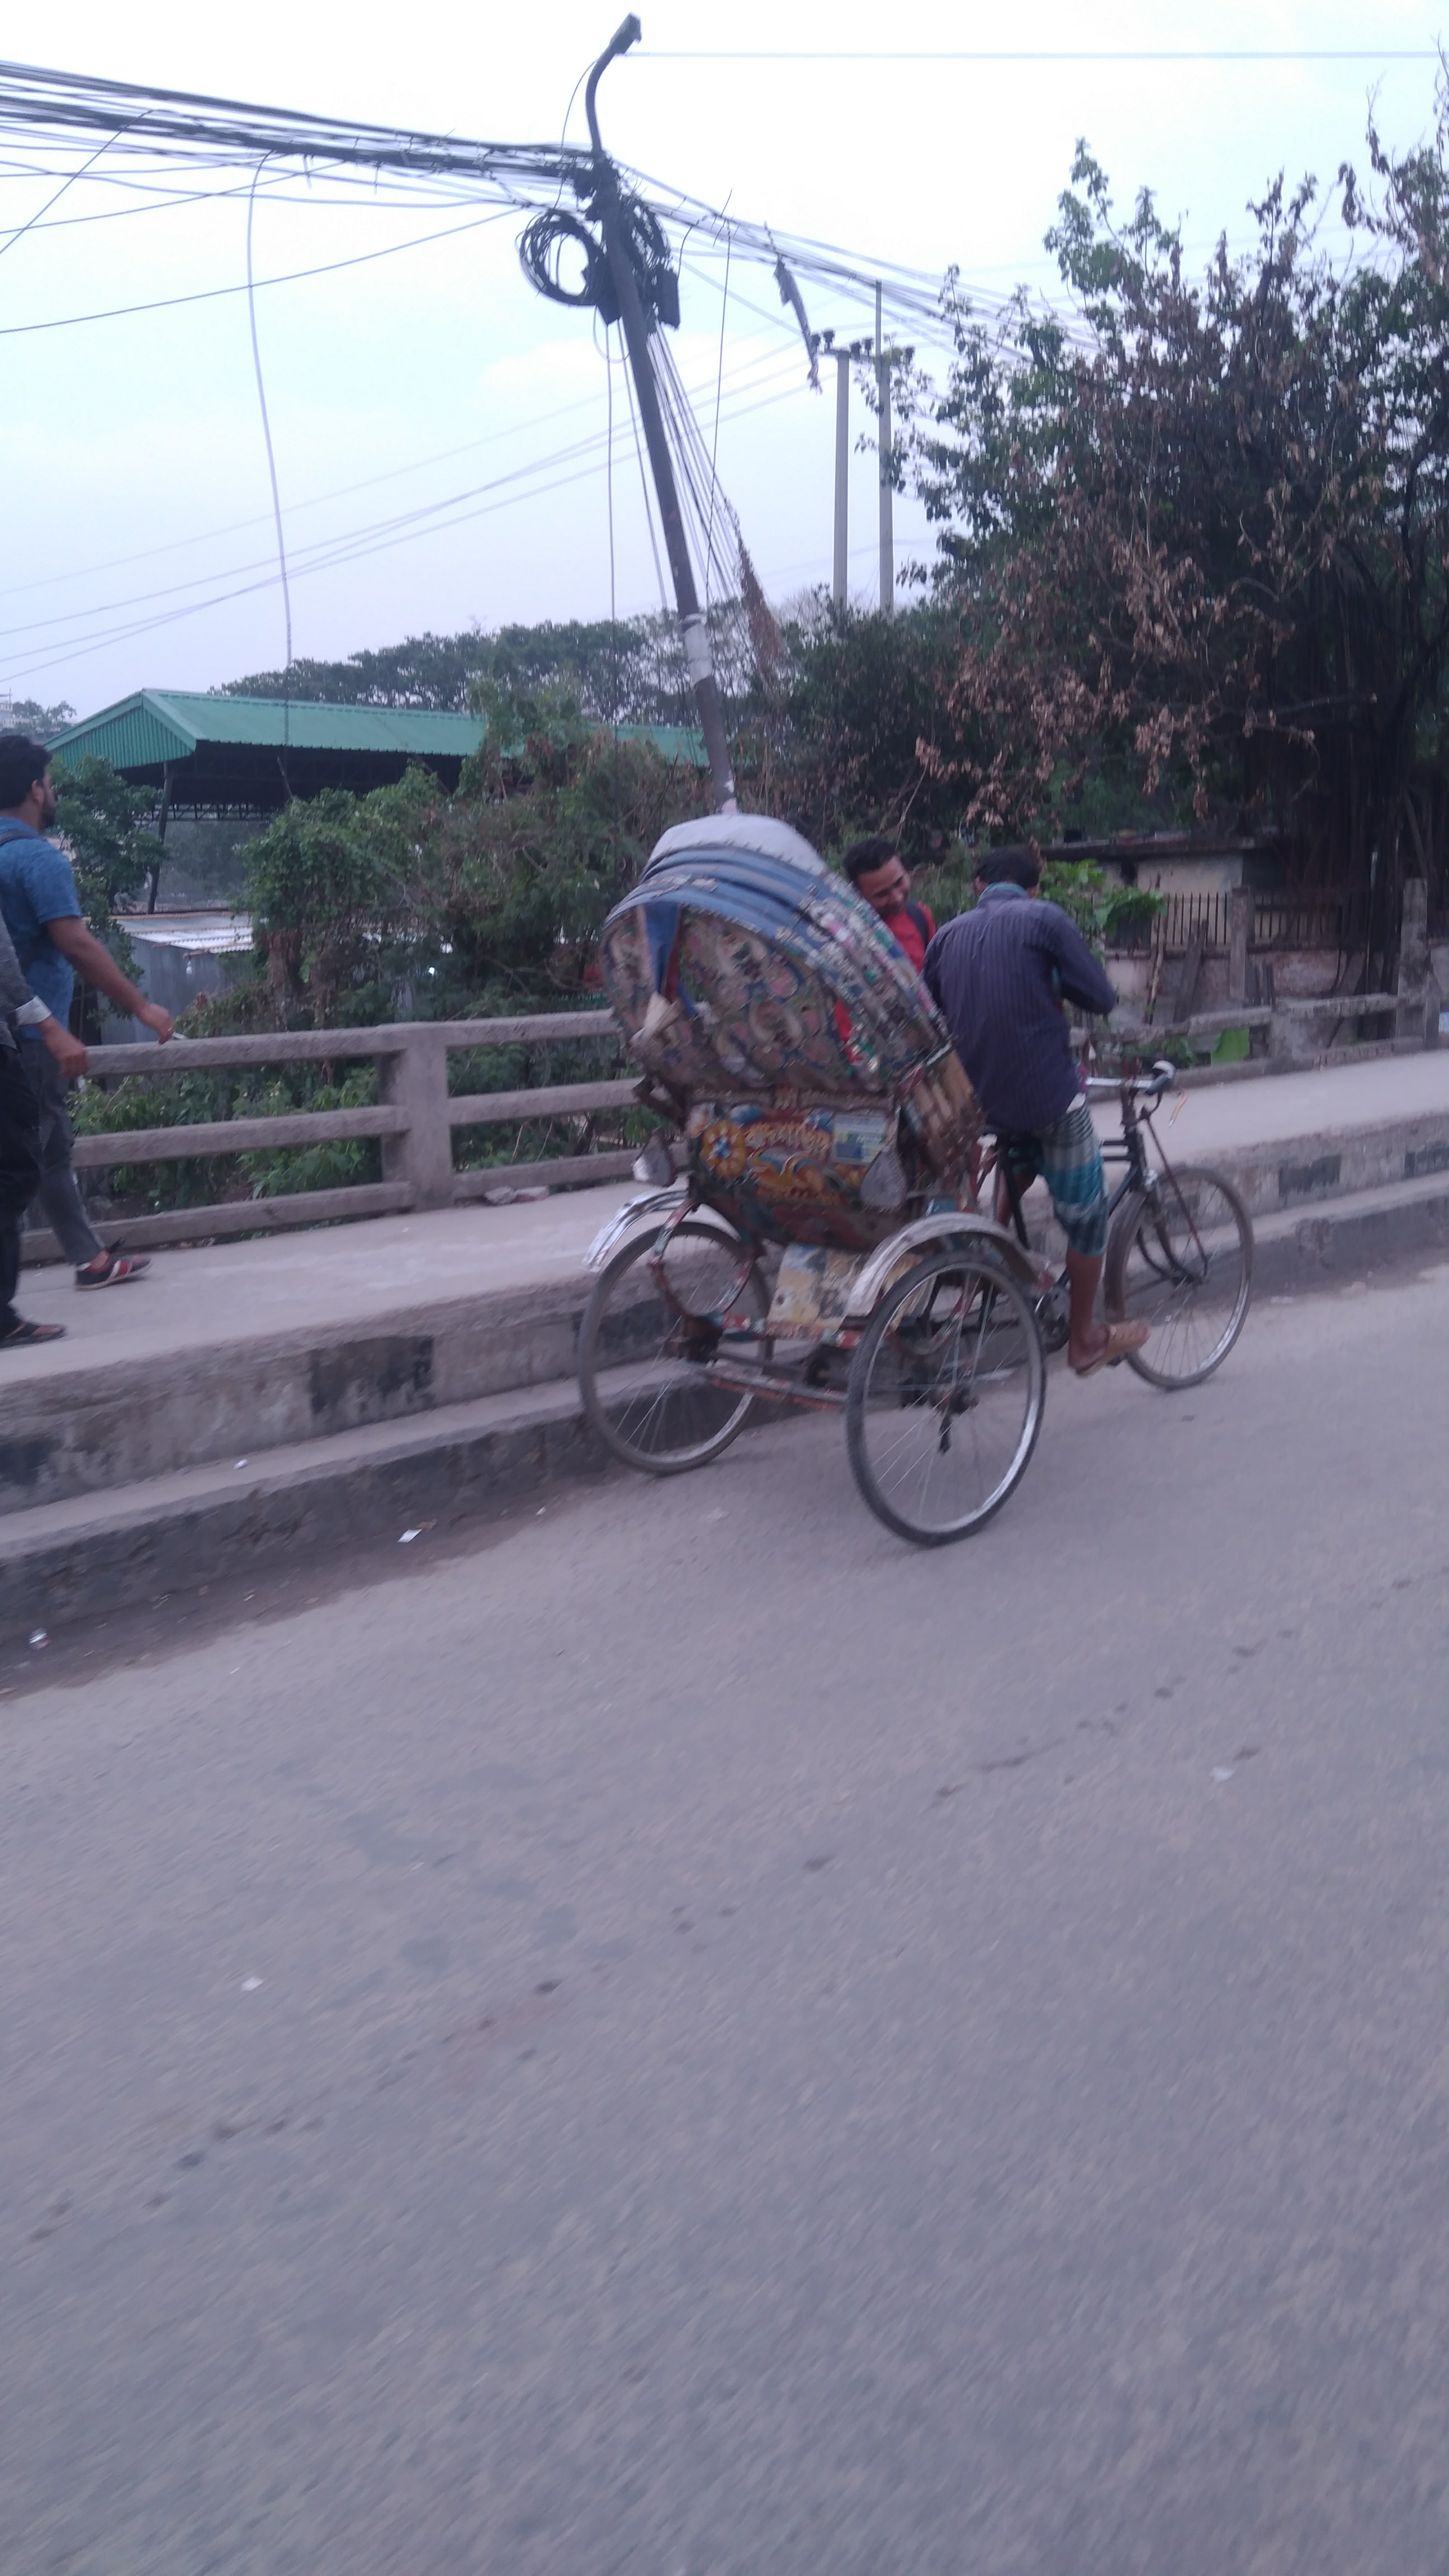Rickshaw: (564, 814, 1267, 1529)
